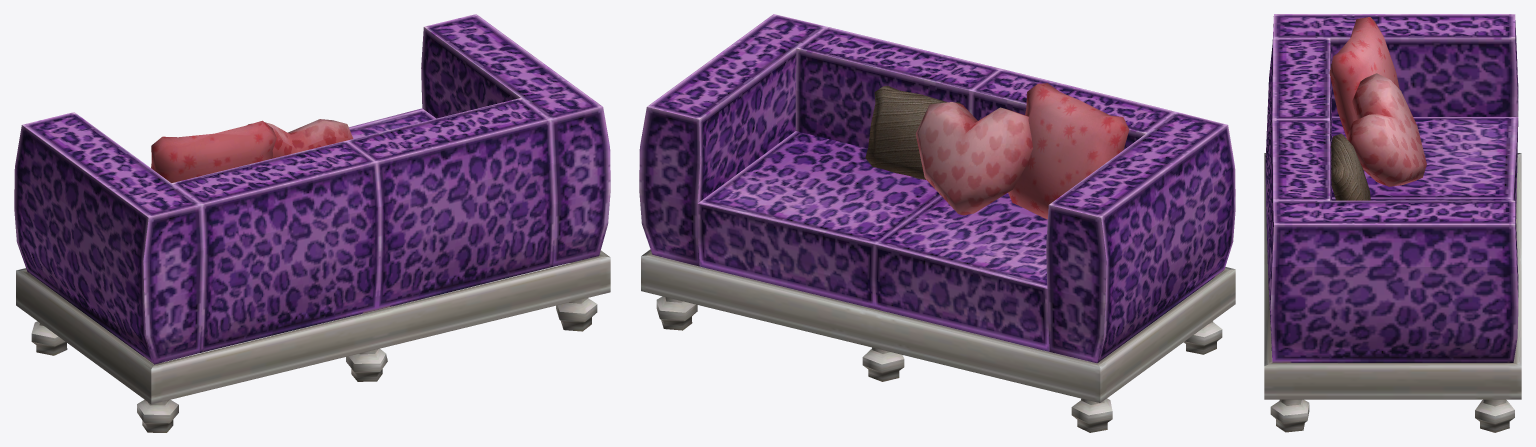
Rendered from furni_0200099_03.FBX.
The picture shows the model from 3 angles, left to right: view 1: azimuth 30°, elevation 25°; view 2: azimuth 150°, elevation 25°; view 3: azimuth 270°, elevation 25°; orthographic projection. The views are drawn at different scales.
Visible parts, largest first — view 1: furni_0200099_03; view 2: furni_0200099_03; view 3: furni_0200099_03.
Part boxes in pixels (x1,y1,x2,y2): furni_0200099_03: (14, 14, 610, 432); furni_0200099_03: (639, 14, 1235, 432); furni_0200099_03: (1264, 14, 1521, 432).
Bounding box in the file's own units: 159 × 82.48 × 80.
Materials: 1 (1 with a texture image).
